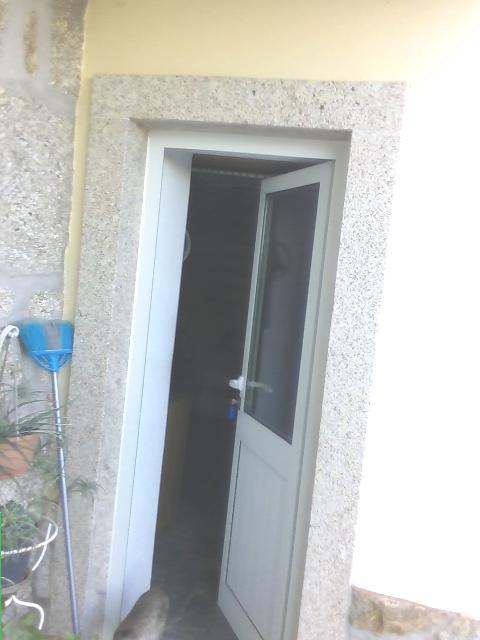semi_door: (103, 126, 351, 639)
